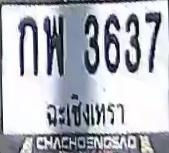3: (124, 12, 141, 74), (84, 14, 100, 74)
6: (104, 13, 121, 74)
7: (144, 11, 161, 74)
A01: (17, 16, 38, 76)
A30: (43, 14, 64, 74)
CCO: (40, 90, 128, 132)
